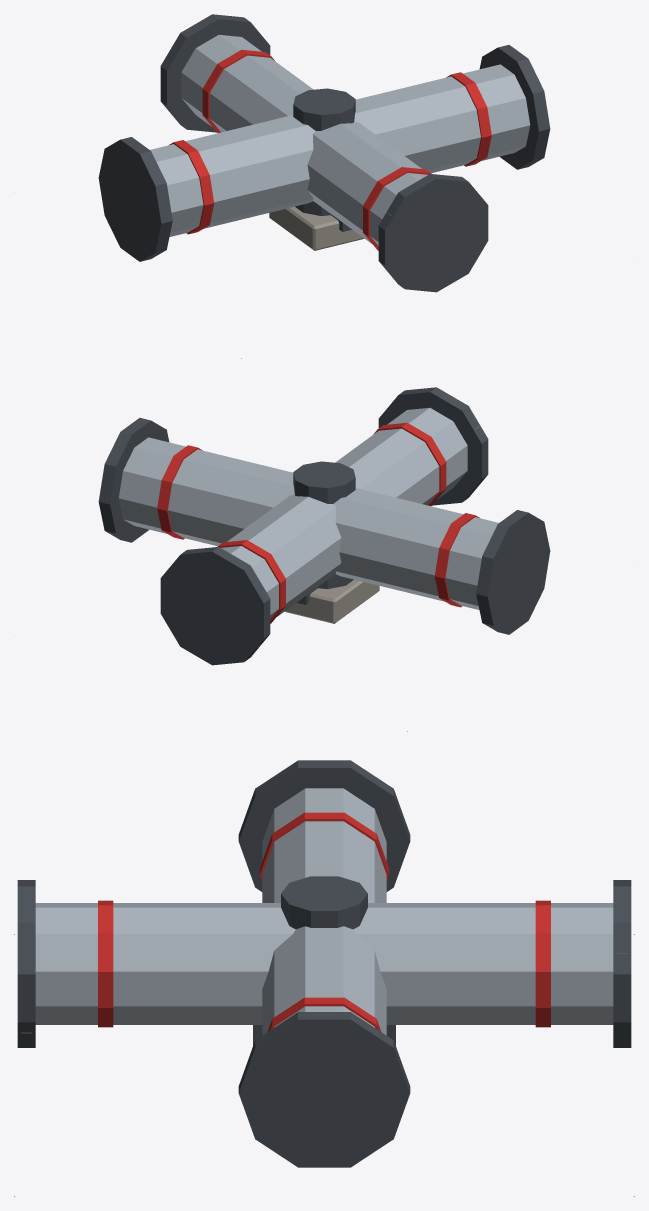
Rendered from tuyau_croix_t3.glb.
3 renders of one model, top to bottom at view 1: azimuth 30°, elevation 25°; view 2: azimuth 150°, elevation 25°; view 3: azimuth 270°, elevation 25°, orthographic. The views are drawn at different scales.
Visible parts, largest first — view 1: pieces_inox.014, pieces_acier_sombre.044, pieces_rive_t3.014, pieces_beton.044; view 2: pieces_inox.014, pieces_acier_sombre.044, pieces_rive_t3.014, pieces_beton.044; view 3: pieces_inox.014, pieces_acier_sombre.044, pieces_rive_t3.014.
Boxes of the visible parts, x1,y1,x2,y2 form: pieces_inox.014: (150,34,530,245); pieces_acier_sombre.044: (98,14,550,292); pieces_rive_t3.014: (169,49,491,250); pieces_beton.044: (269,206,364,250); pieces_inox.014: (118,407,498,618); pieces_acier_sombre.044: (98,387,550,665); pieces_rive_t3.014: (157,422,479,623); pieces_beton.044: (284,579,379,623); pieces_inox.014: (35,788,613,1035); pieces_acier_sombre.044: (17,760,631,1167); pieces_rive_t3.014: (98,812,550,1031).
Size of the model in its own units: 1 by 0.318 by 1.
